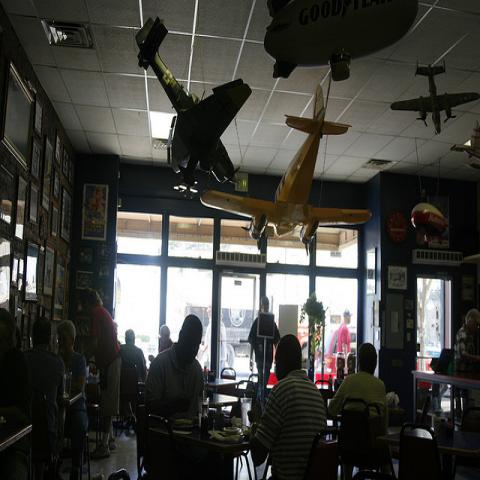truck: (185, 303, 309, 368), (323, 330, 338, 376)
